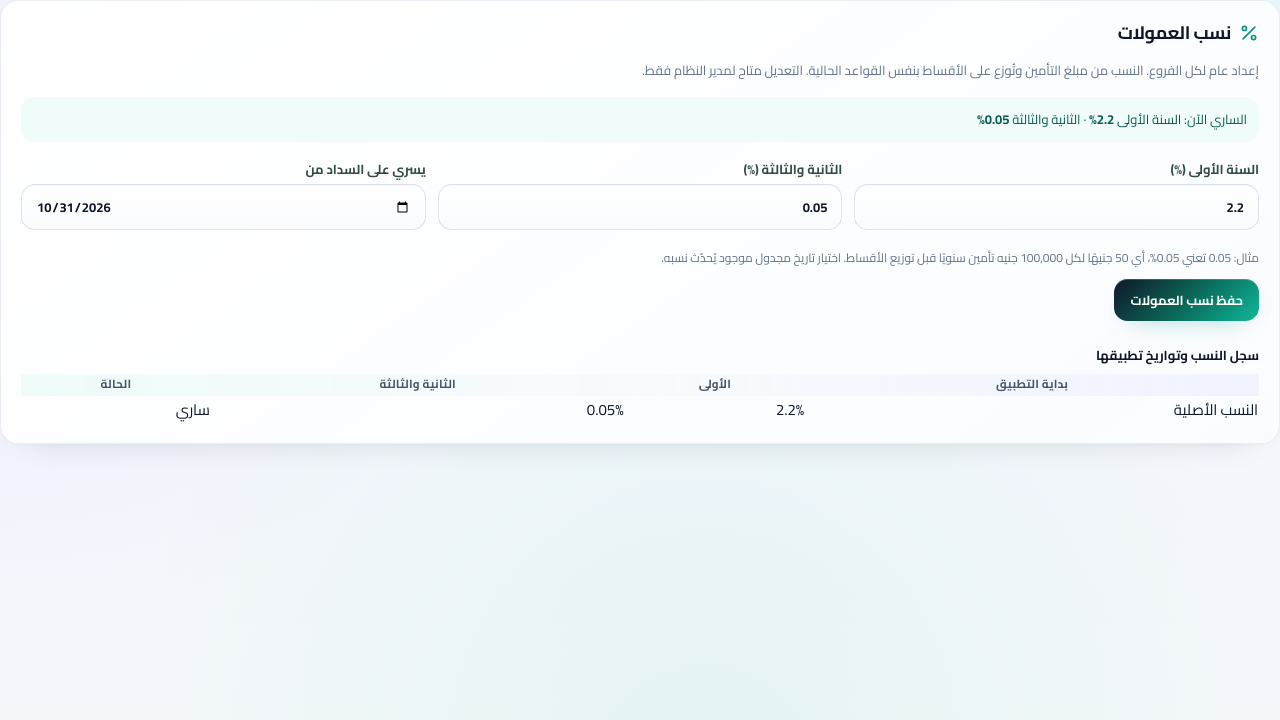
Test: prevents historical rate changes before sending a request
This screenshot has width=1280, height=720.
Step 1. Type "2020-01-01" into the date field labelled "يسري على السداد من" → (223, 207), box [21,184,426,230]
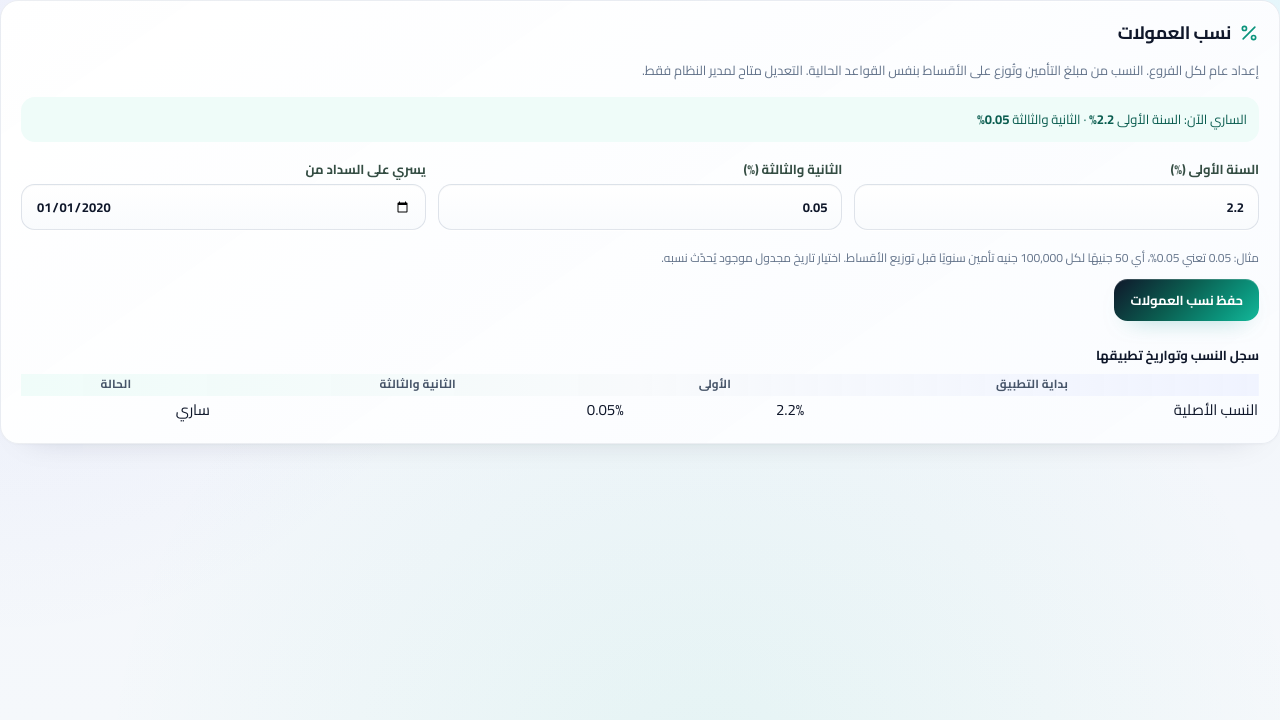
Step 2. Submit the form named "حفظ نسب العمولات", box [21,158,1259,321]
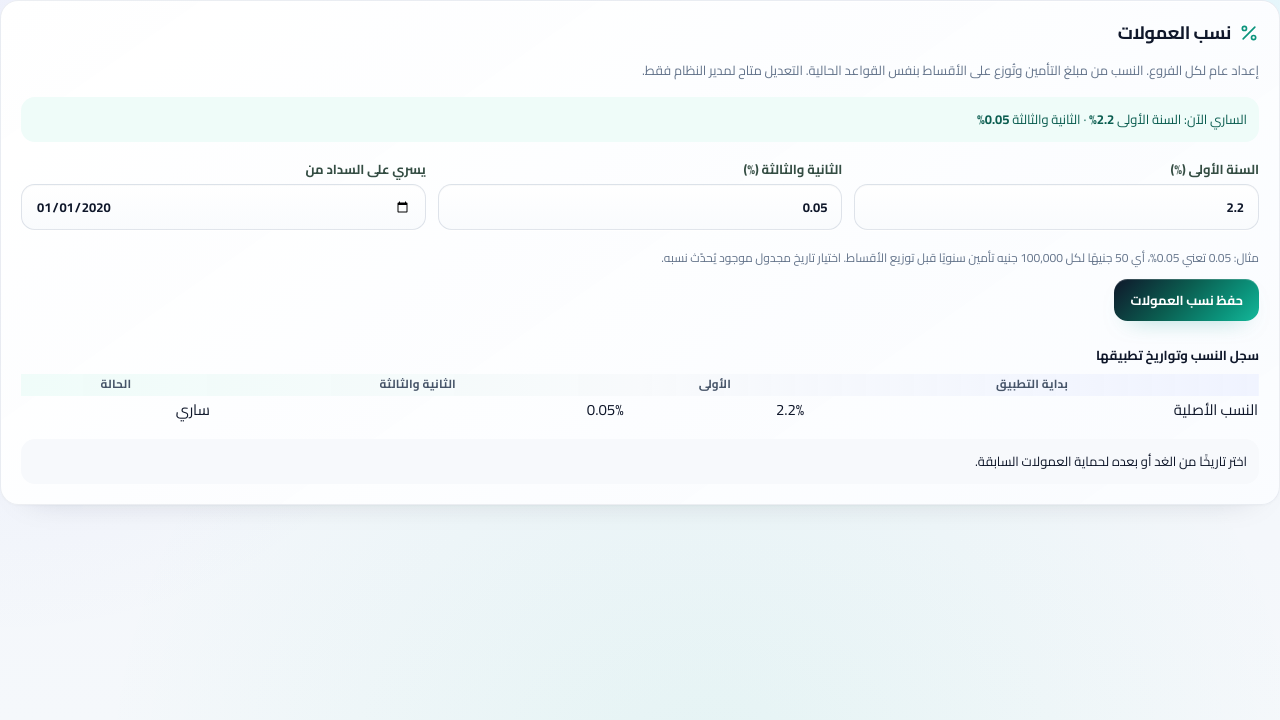
Expected: the message shows "لحماية العمولات السابقة", [975,449,1247,473]
